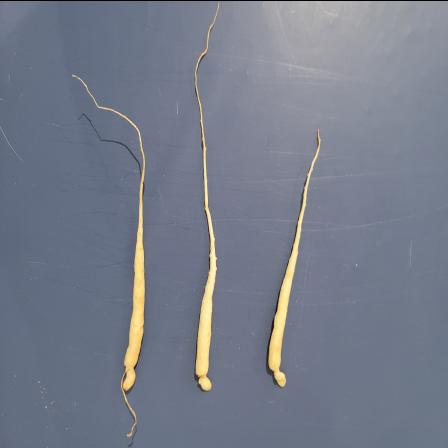Ginseng: (68, 72, 150, 400), (265, 127, 322, 389), (191, 0, 220, 394)
head: (122, 360, 138, 393), (268, 362, 287, 388), (195, 366, 212, 391)
